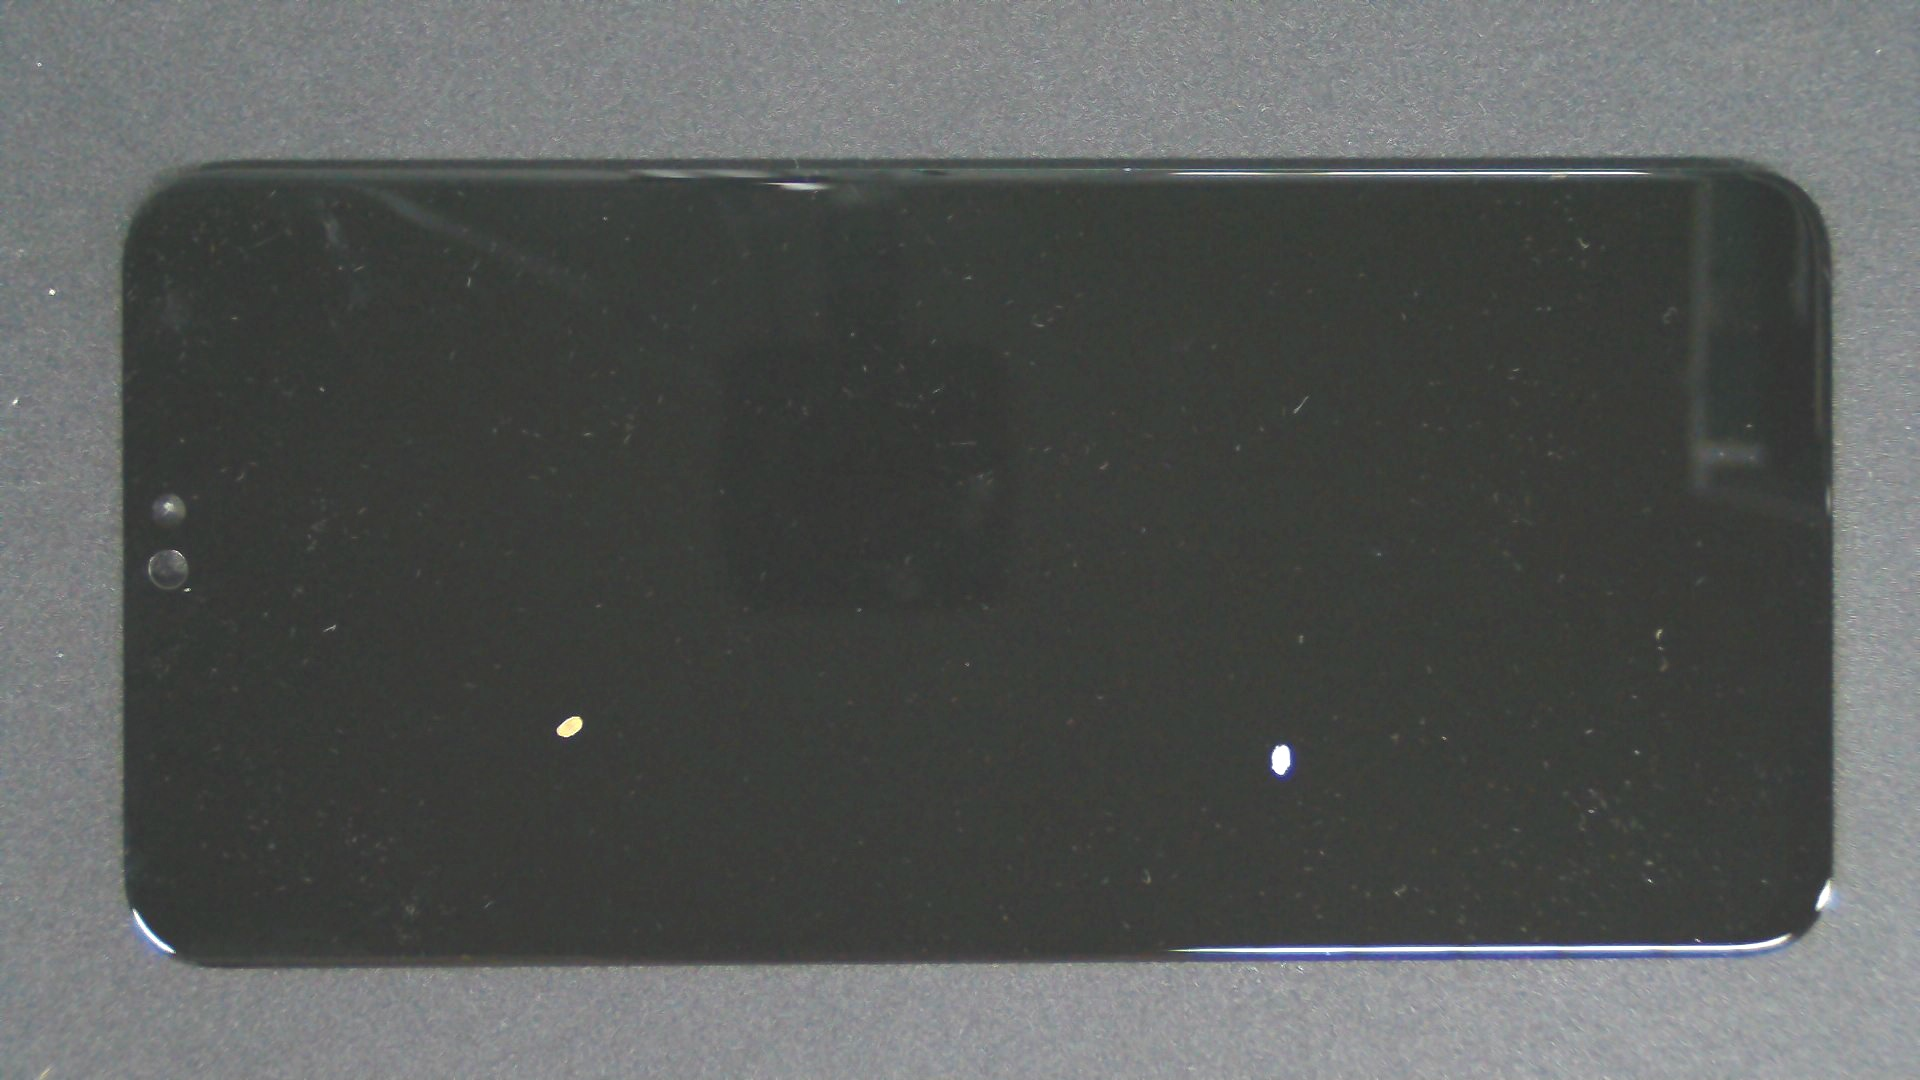oil: (642, 371, 1920, 1080), (287, 357, 861, 1073)
